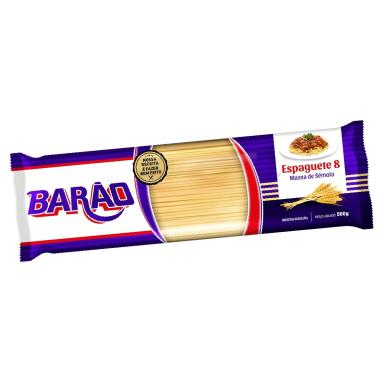pasta package: (11, 121, 372, 261)
